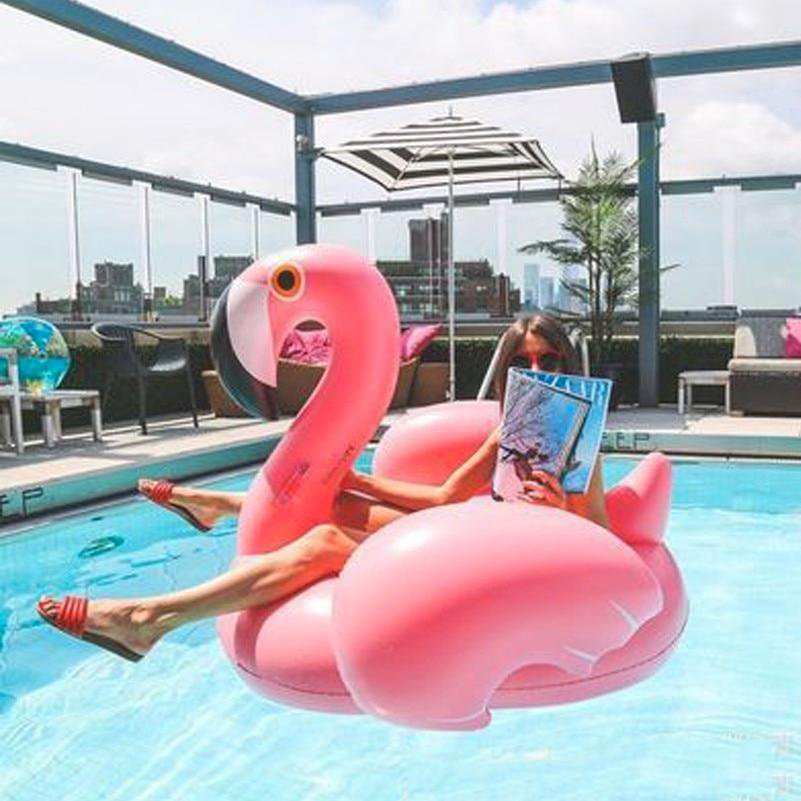Flamingo: (203, 241, 696, 737)
